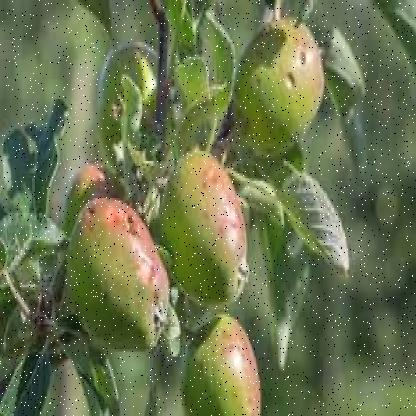damaged_apple: (66, 196, 172, 352), (158, 154, 252, 310), (234, 17, 323, 158), (173, 302, 262, 408)
